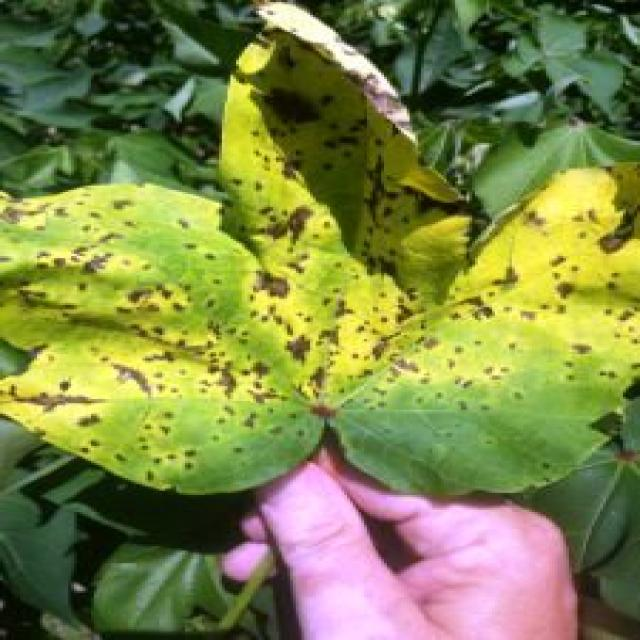Bacterial Blight: (109, 217, 506, 395)
